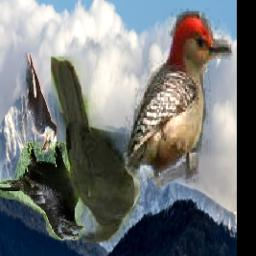Crow: (0, 142, 85, 240)
Cuckoo: (52, 58, 141, 244)
Woodpecker: (101, 8, 234, 213), (20, 54, 58, 156)
